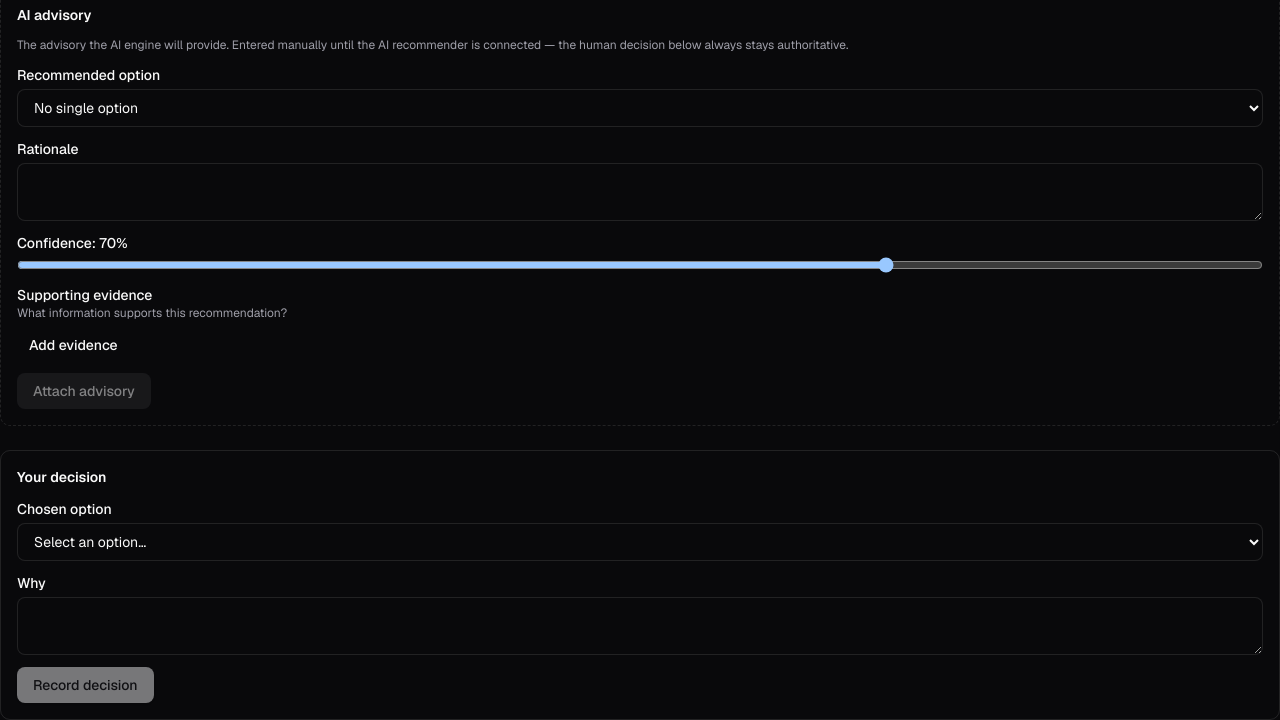
Test case: DecisionDetail › records the human decision with the current ETag and shows the result
(page scrolled)
Select "Interview open" in the dropdown labelled "Chosen option" at (640, 542), box x1=17 y1=523 x2=1263 y2=561
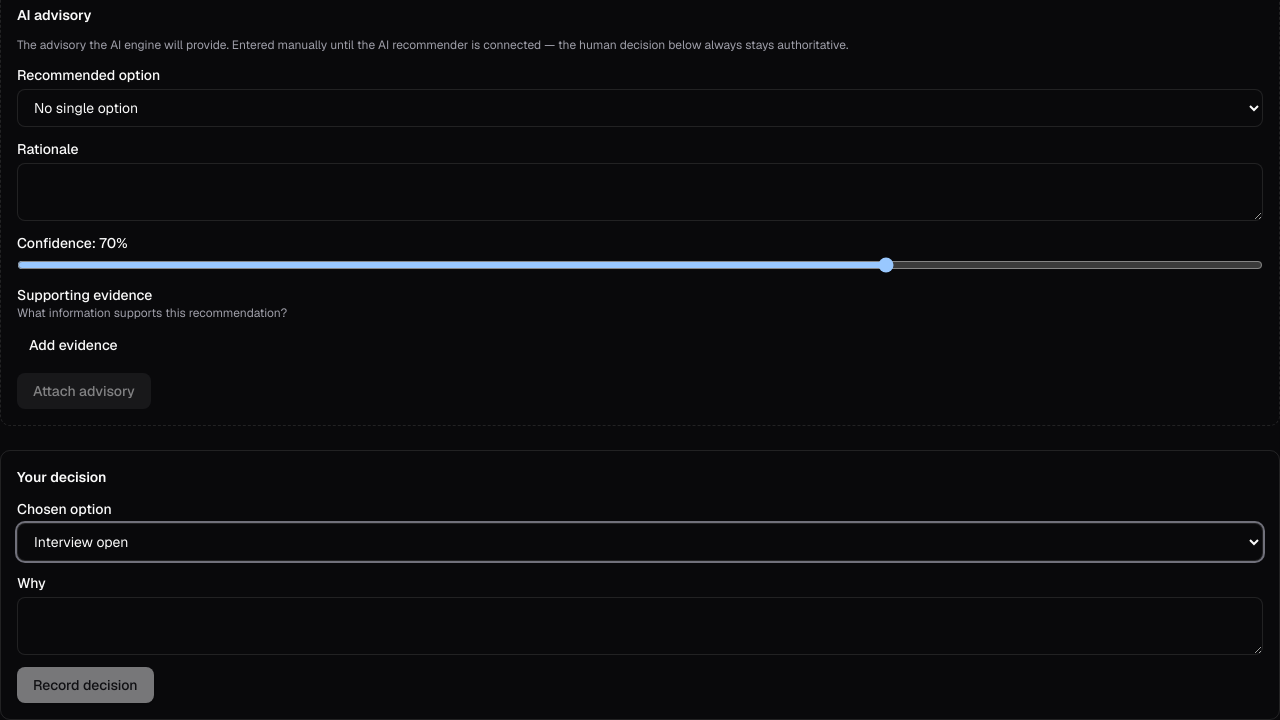
Type "Sets stakes faster" into the text box named "decision rationale" at (640, 626), box x1=17 y1=597 x2=1263 y2=655
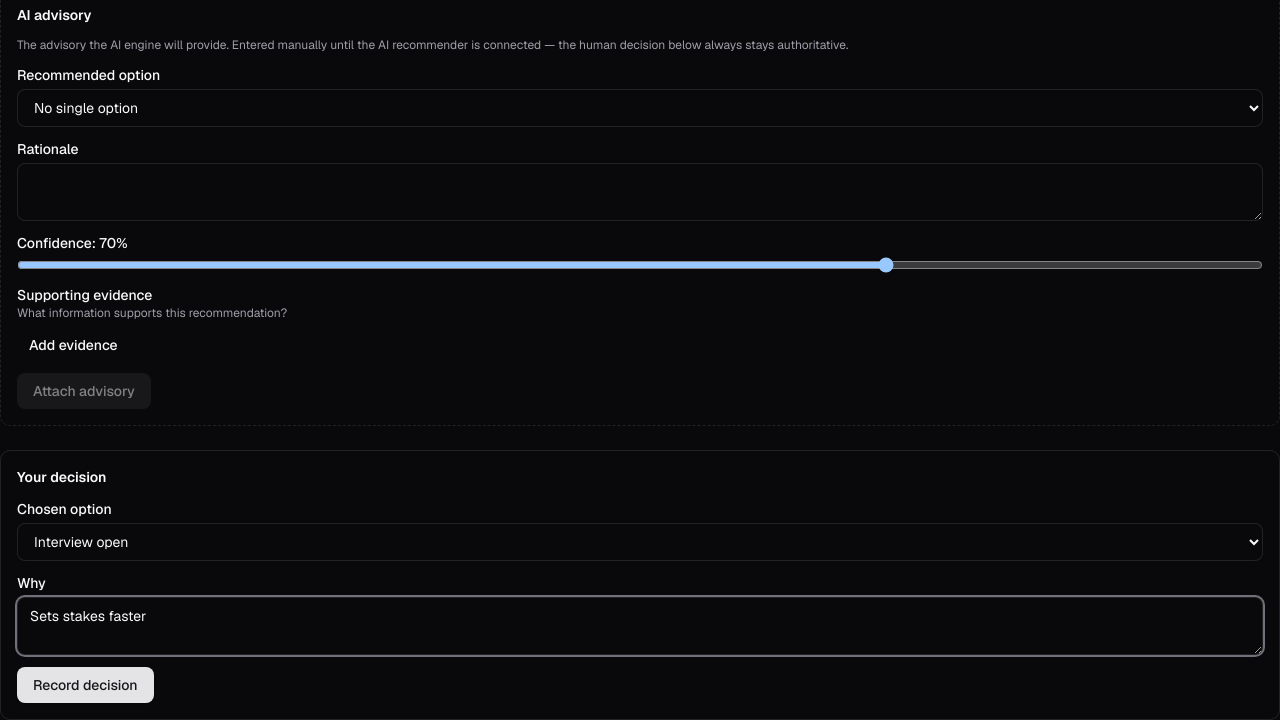
Click the button "Record decision" at (85, 685), box x1=17 y1=667 x2=154 y2=703
(page scrolled)
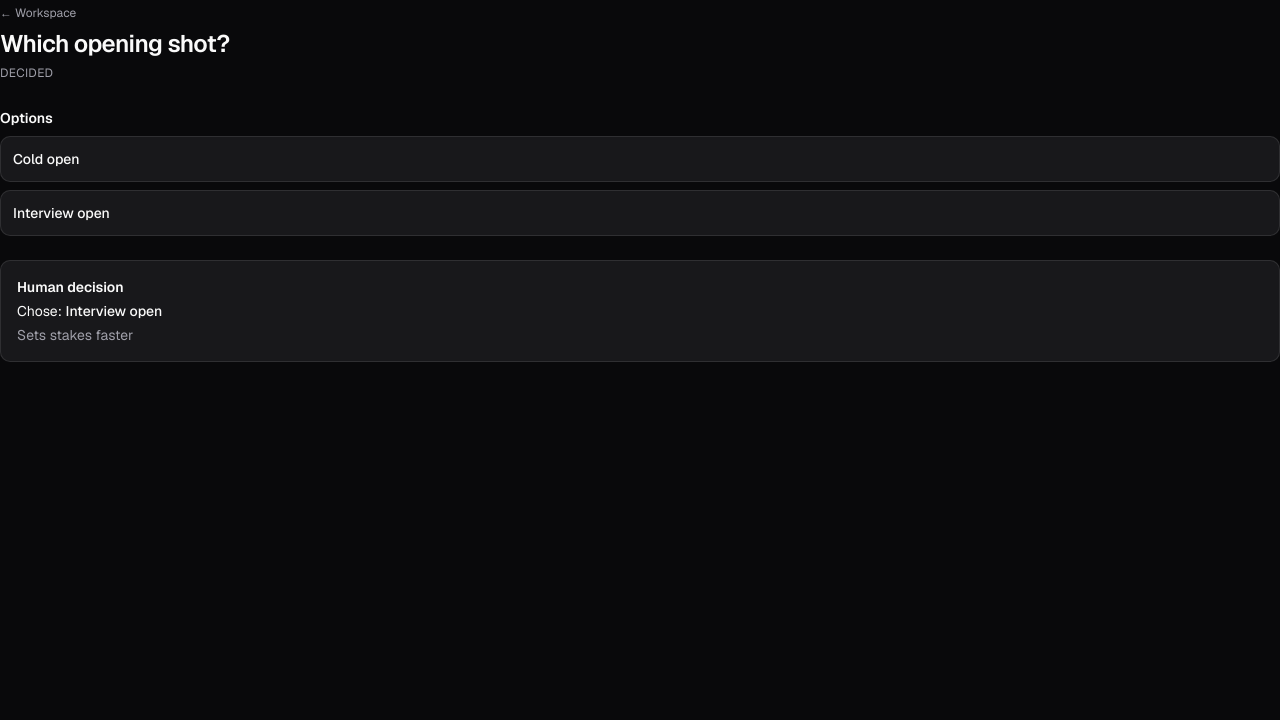
Expected: the heading "Human decision" is shown, x1=17 y1=278 x2=124 y2=296
Expected: the text "Chose: Interview open" is shown, x1=17 y1=302 x2=162 y2=320
